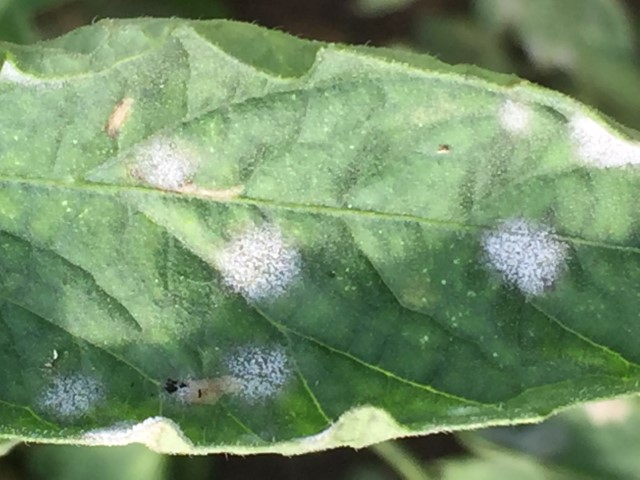oidio: (480, 218, 571, 297), (222, 222, 303, 302), (224, 343, 291, 406), (568, 115, 640, 168), (37, 372, 105, 421), (137, 139, 198, 190), (497, 99, 532, 137), (86, 420, 137, 439), (169, 378, 194, 405)
